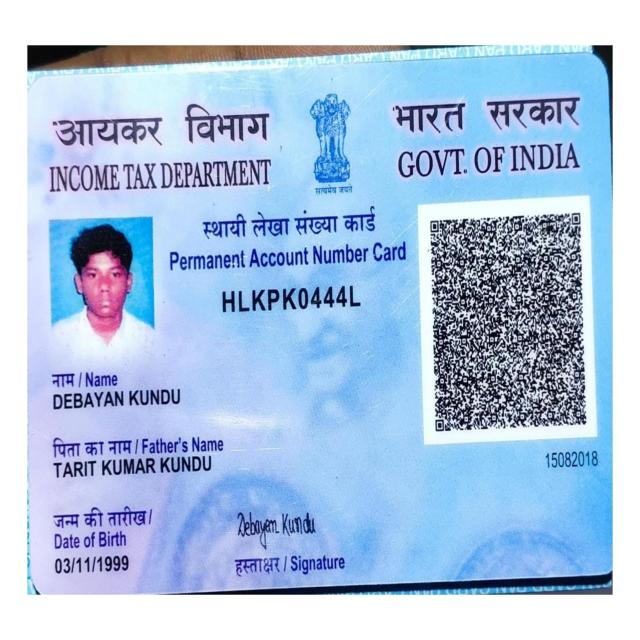pan_card: (31, 56, 610, 599)
